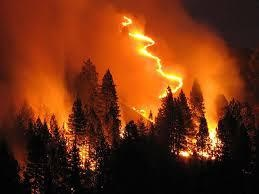fire: (122, 13, 230, 165)
